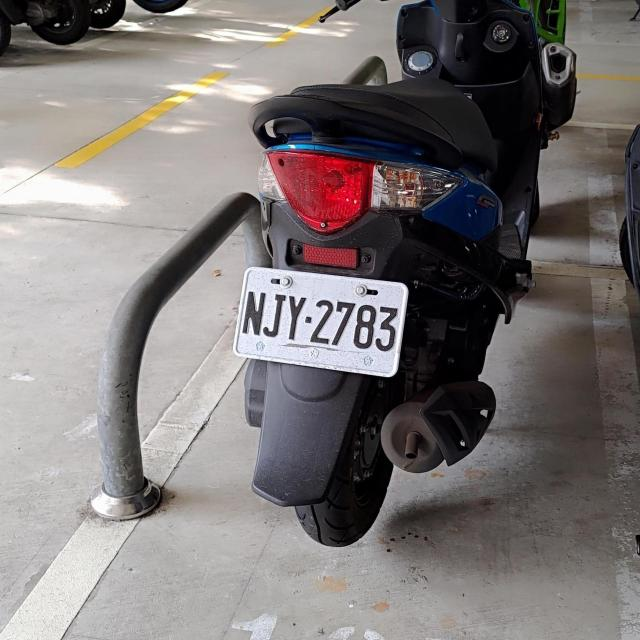W: (231, 263, 407, 376)
